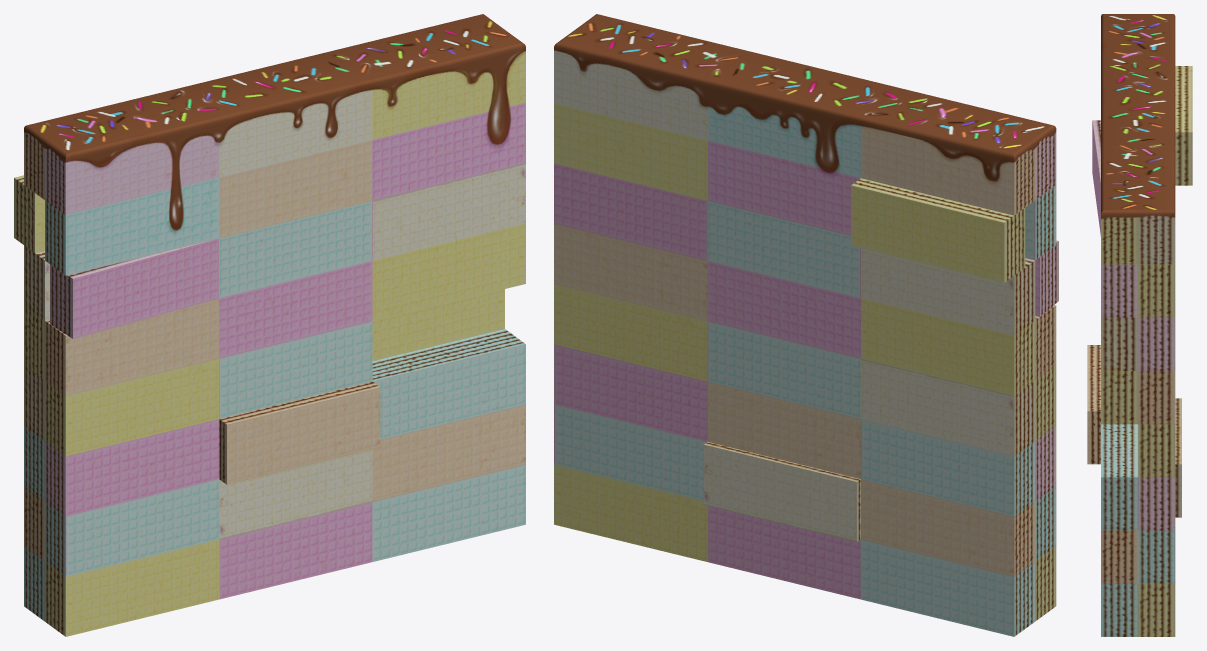
The model's file is InnerWall.fbx.
The picture shows the model from 3 angles, left to right: view 1: azimuth 30°, elevation 25°; view 2: azimuth 150°, elevation 25°; view 3: azimuth 270°, elevation 25°; orthographic projection. The views are drawn at different scales.
Visible parts, largest first — view 1: innerwall; view 2: innerwall; view 3: innerwall.
Part boxes in pixels (x1=…): innerwall: x1=14, y1=14, x2=525, y2=636; innerwall: x1=554, y1=14, x2=1058, y2=636; innerwall: x1=1087, y1=14, x2=1192, y2=636.
Bounding box in the file's own units: 7.61 × 7.61 × 1.71.
